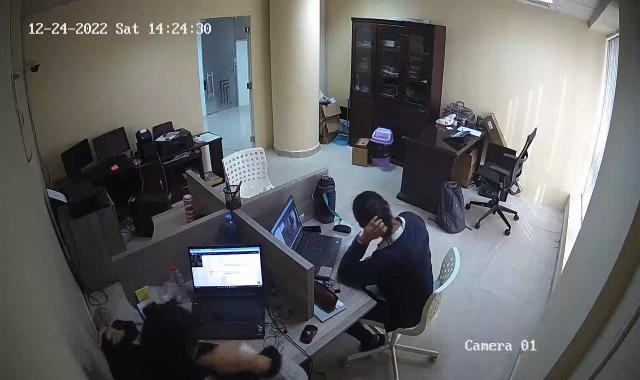no_hairnet: (142, 302, 194, 368), (354, 192, 394, 240)
